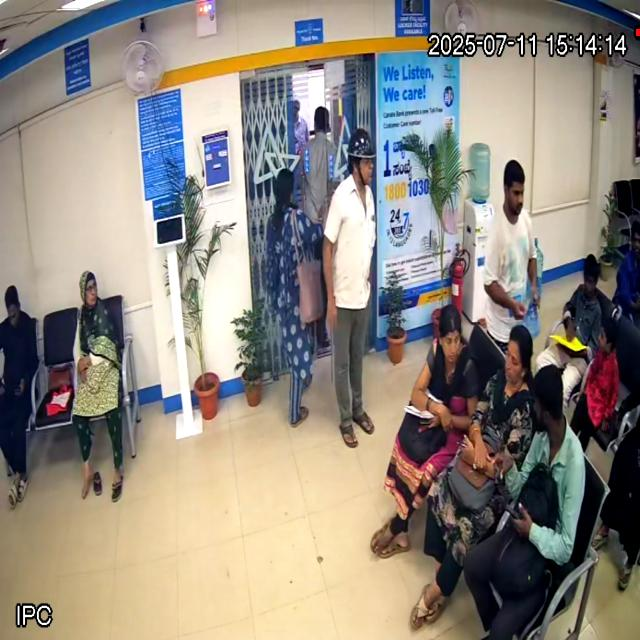helmet: (347, 127, 377, 192)
no_helmet: (532, 363, 565, 447), (504, 325, 533, 382), (503, 159, 525, 222), (438, 304, 461, 364), (5, 285, 21, 329), (79, 270, 98, 307), (597, 319, 617, 354)
